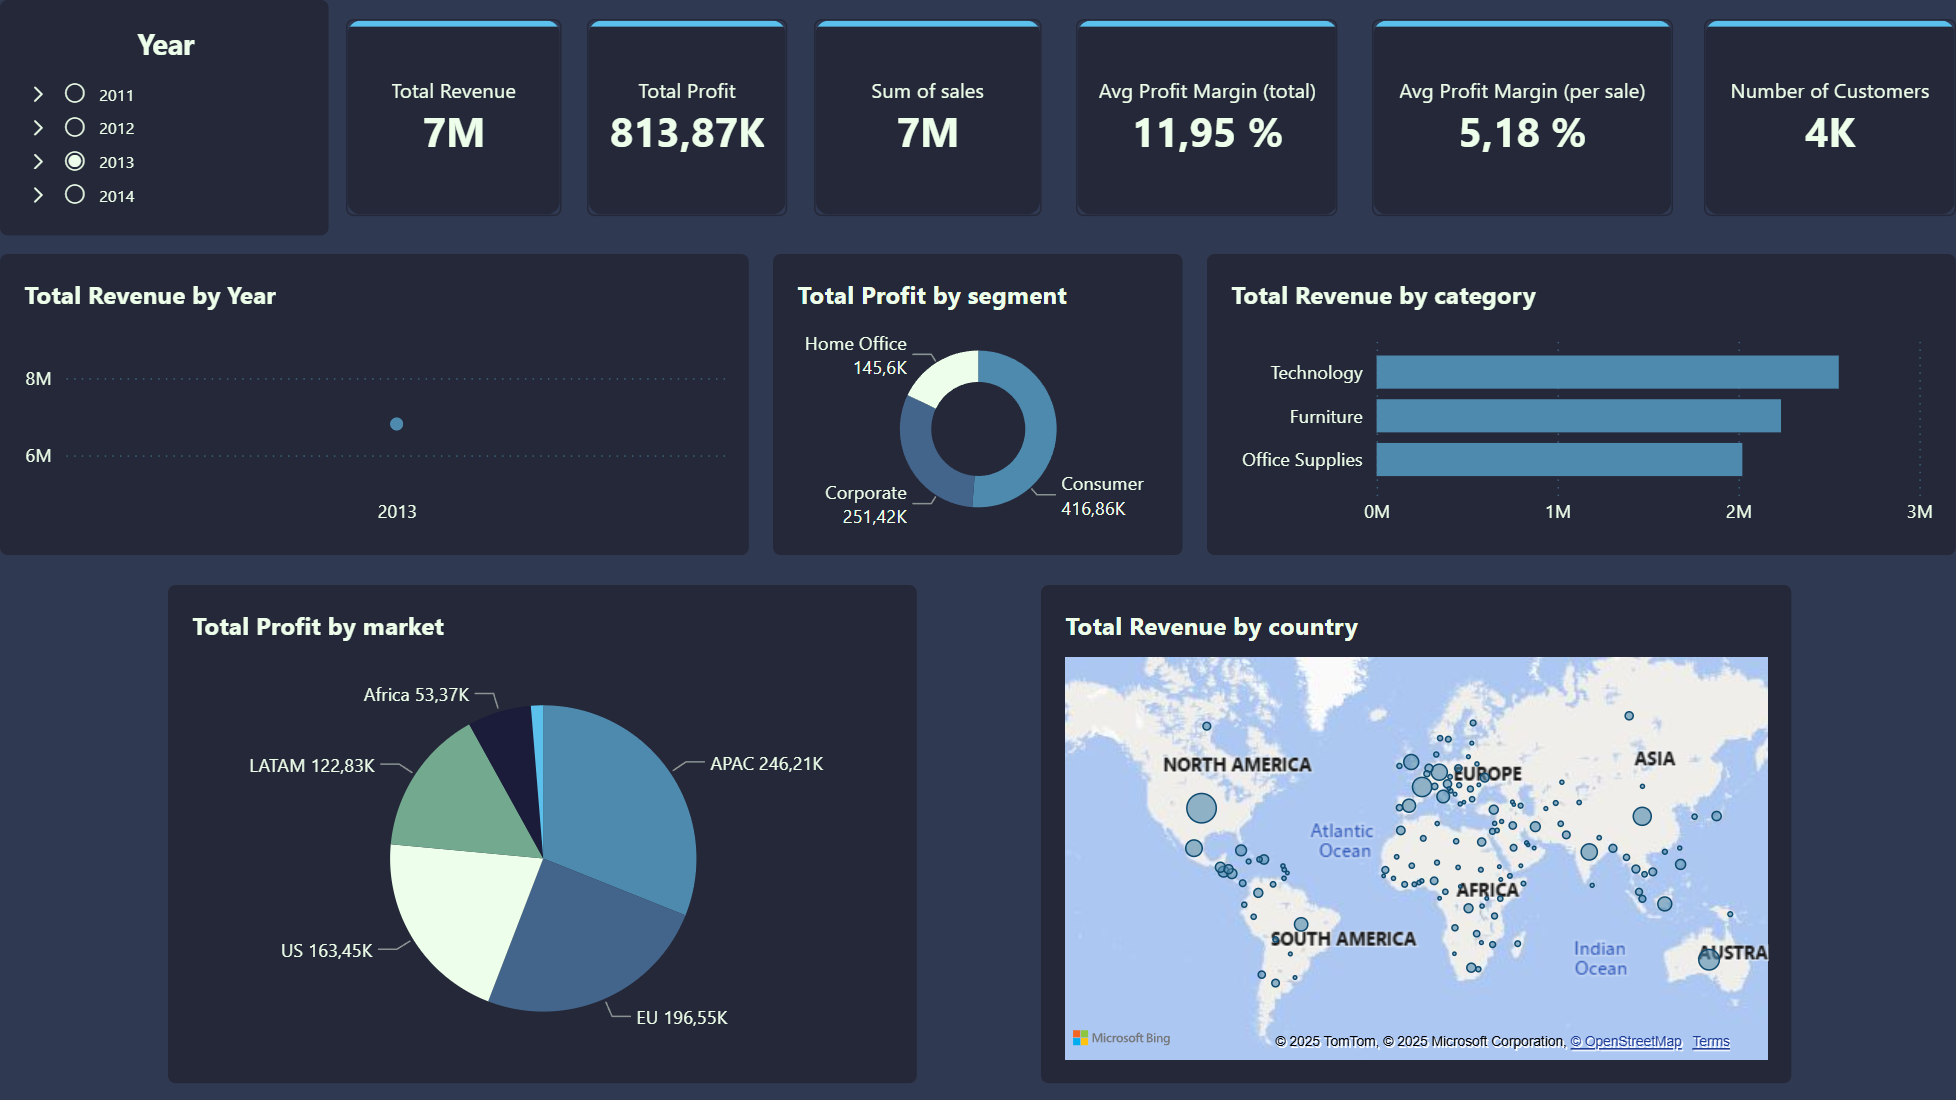

The page's visual inventory and layout, read from the dashboard file:
{"tool":"powerbi","page":{"name":"Page 1","canvas":[1280,720],"ordinal":0},"visuals":[{"type":"listSlicer","fields":{"Values":["public orders.order_date.Variation.Date Hierarchy.Year","public orders.order_date.Variation.Date Hierarchy.Quarter","public orders.order_date.Variation.Date Hierarchy.Month","public orders.order_date.Variation.Date Hierarchy.Day"]},"box":[0,0,215.3,154.4],"z":0},{"type":"cardVisual","fields":{"Data":["Measure Table.Total Revenue"]},"box":[226.4,12.4,140.7,128.9],"z":1000},{"type":"cardVisual","fields":{"Data":["Measure Table.Total Profit"]},"box":[384.1,12.4,130.9,128.9],"z":2000},{"type":"cardVisual","fields":{"Data":["Measure Table.Avg Profit Margin (weighted)"]},"box":[704.1,12.4,171.5,128.9],"z":3000},{"type":"cardVisual","fields":{"Data":["Measure Table.Avg Profit Margin (row avg)"]},"box":[897.8,12.4,197,128.9],"z":4000},{"type":"cardVisual","fields":{"Data":["Measure Table.Number of Customers"]},"box":[1115.1,12.4,164.9,128.9],"z":5000},{"type":"cardVisual","fields":{"Data":["Sum(public orders.sales)"]},"box":[532.7,12.4,148.5,128.9],"z":6000},{"type":"clusteredBarChart","fields":{"Category":["public orders.category"],"Y":["Measure Table.Total Revenue"]},"box":[789.9,166.2,490.1,197],"z":7000},{"type":"lineChart","fields":{"Category":["public orders.order_date.Variation.Date Hierarchy.Year","public orders.order_date.Variation.Date Hierarchy.Quarter","public orders.order_date.Variation.Date Hierarchy.Month","public orders.order_date.Variation.Date Hierarchy.Day"],"Y":["Measure Table.Total Revenue"]},"box":[0,166.2,490.1,197],"z":8000},{"type":"donutChart","fields":{"Category":["public orders.segment"],"Y":["Measure Table.Total Profit"]},"box":[505.8,166.2,267.6,197],"z":9000},{"type":"pieChart","fields":{"Y":["Measure Table.Total Profit"],"Category":["public orders.market_1"]},"box":[109.9,382.8,490.1,325.9],"z":10000},{"type":"map","fields":{"Category":["public orders.country"],"Size":["Measure Table.Total Revenue"]},"box":[681.2,382.8,490.8,325.9],"z":11000}]}

Visuals, with their boxes in screenshot pixels (x1, y1, x2, y2), scaled from the page's 1280x720 canvas onto the 1956x1100 screenshot:
listSlicer - public orders.order_date.Variation.Date Hierarchy.Year x public orders.order_date.Variation.Date Hierarchy.Quarter: region(0, 0, 329, 236)
cardVisual - Measure Table.Total Revenue: region(346, 19, 561, 216)
cardVisual - Measure Table.Total Profit: region(587, 19, 787, 216)
cardVisual - Measure Table.Avg Profit Margin (weighted): region(1076, 19, 1338, 216)
cardVisual - Measure Table.Avg Profit Margin (row avg): region(1372, 19, 1673, 216)
cardVisual - Measure Table.Number of Customers: region(1704, 19, 1955, 216)
cardVisual - Sum(public orders.sales): region(814, 19, 1041, 216)
clusteredBarChart - public orders.category x Measure Table.Total Revenue: region(1207, 254, 1955, 555)
lineChart - public orders.order_date.Variation.Date Hierarchy.Year x public orders.order_date.Variation.Date Hierarchy.Quarter: region(0, 254, 749, 555)
donutChart - public orders.segment x Measure Table.Total Profit: region(773, 254, 1182, 555)
pieChart - Measure Table.Total Profit x public orders.market_1: region(168, 585, 917, 1083)
map - public orders.country x Measure Table.Total Revenue: region(1041, 585, 1791, 1083)
